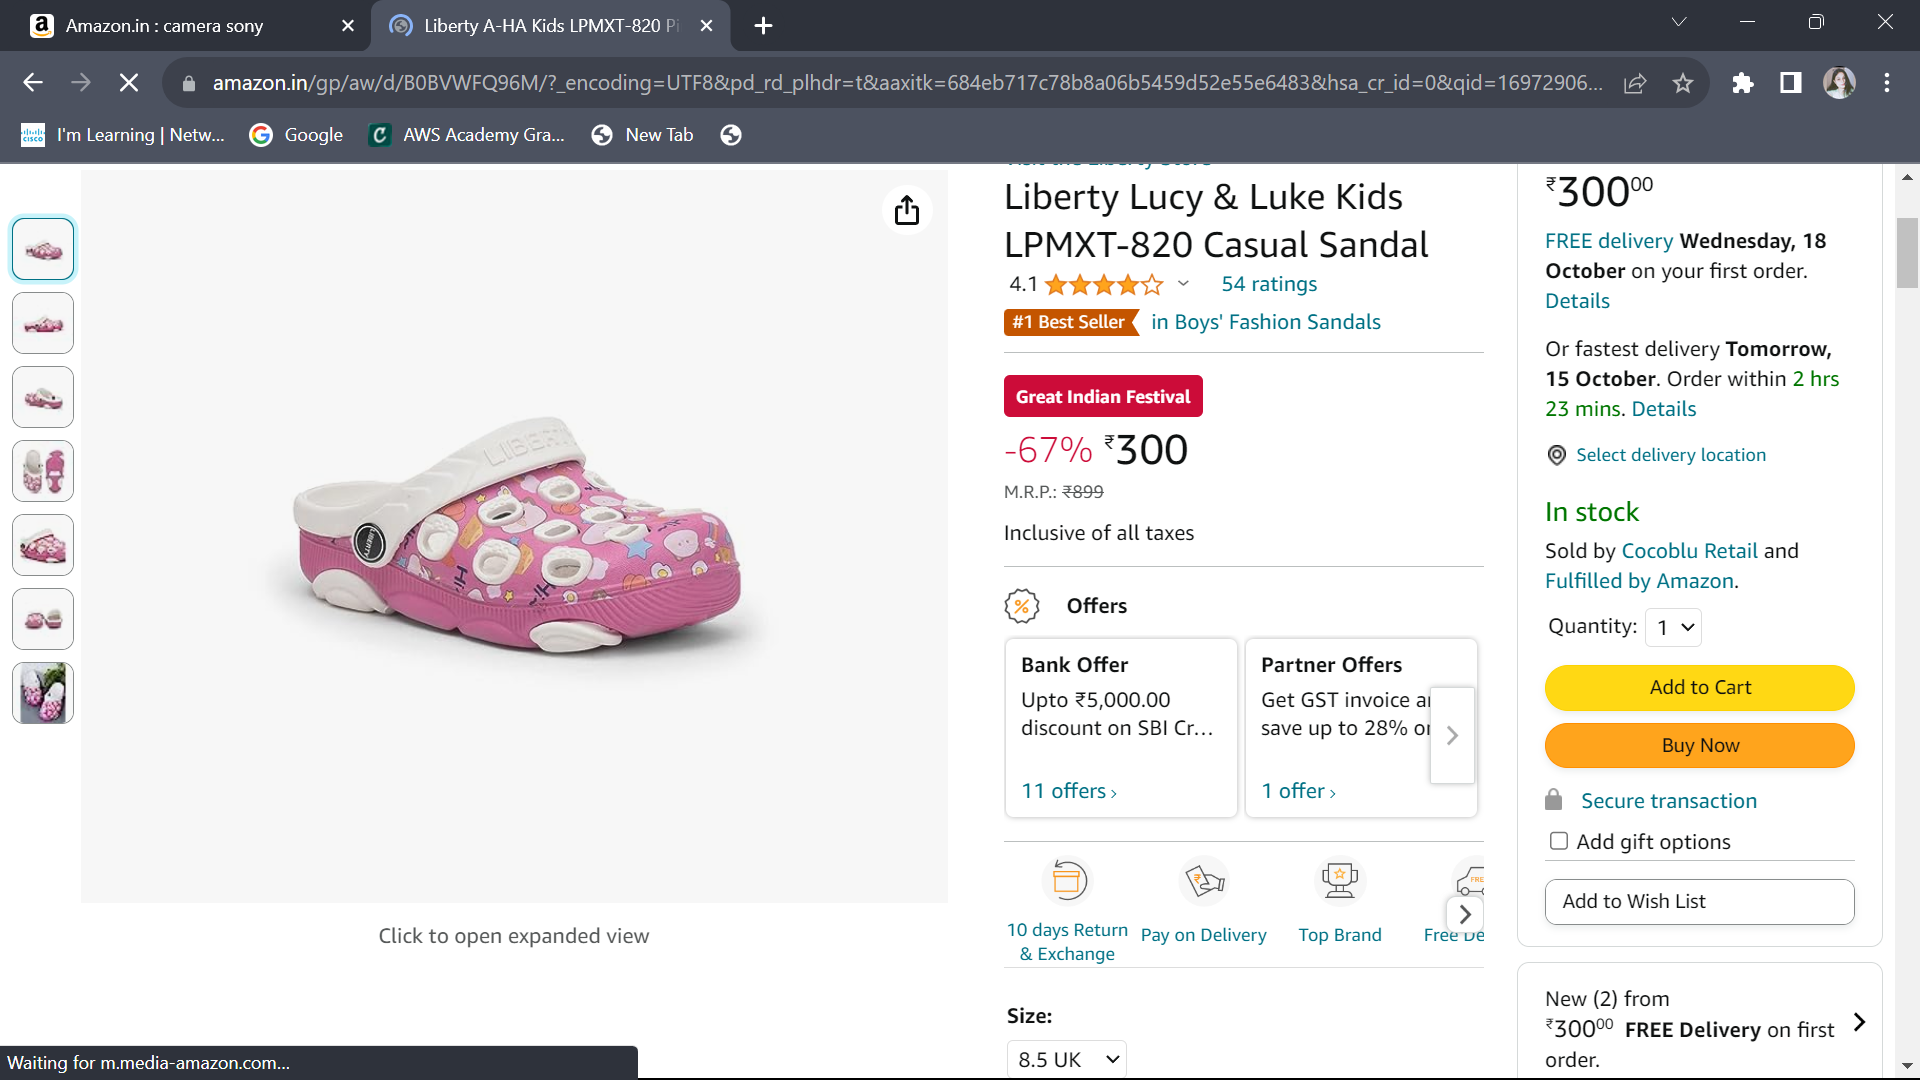Image: (253, 352, 749, 692)
Paragraph: (878, 167, 1481, 286), (997, 585, 1233, 829), (1251, 609, 1481, 824), (1538, 657, 1870, 803), (1516, 335, 1857, 448), (1532, 489, 1816, 615), (1001, 371, 1216, 498), (1520, 233, 1840, 310), (1015, 851, 1129, 985), (1532, 179, 1755, 233), (985, 520, 1200, 562), (1528, 609, 1710, 647), (1141, 911, 1278, 961), (1523, 444, 1774, 469), (1296, 911, 1391, 964), (1422, 919, 1499, 968)
